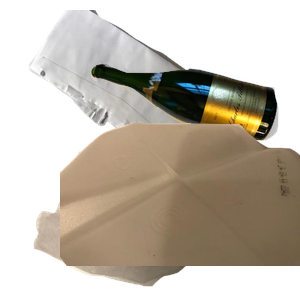glass: (88, 60, 300, 193)
paper: (27, 10, 252, 187)
plastic: (60, 120, 300, 300)
trash: (31, 149, 268, 300)
